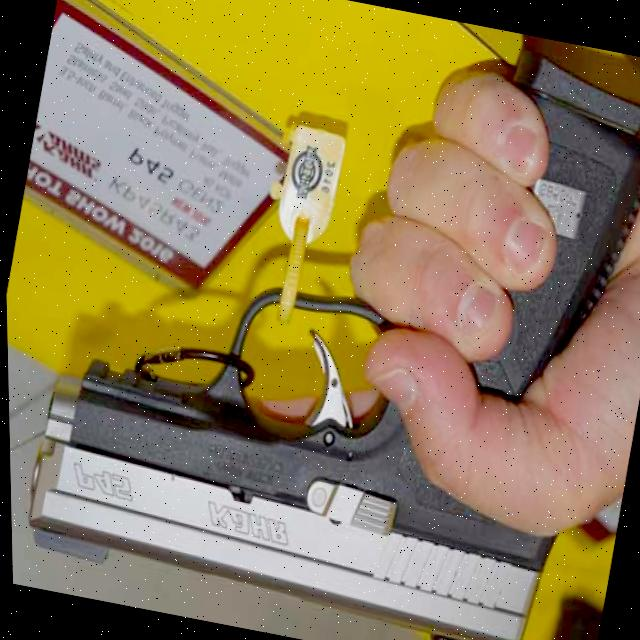pistol: (4, 241, 596, 640)
